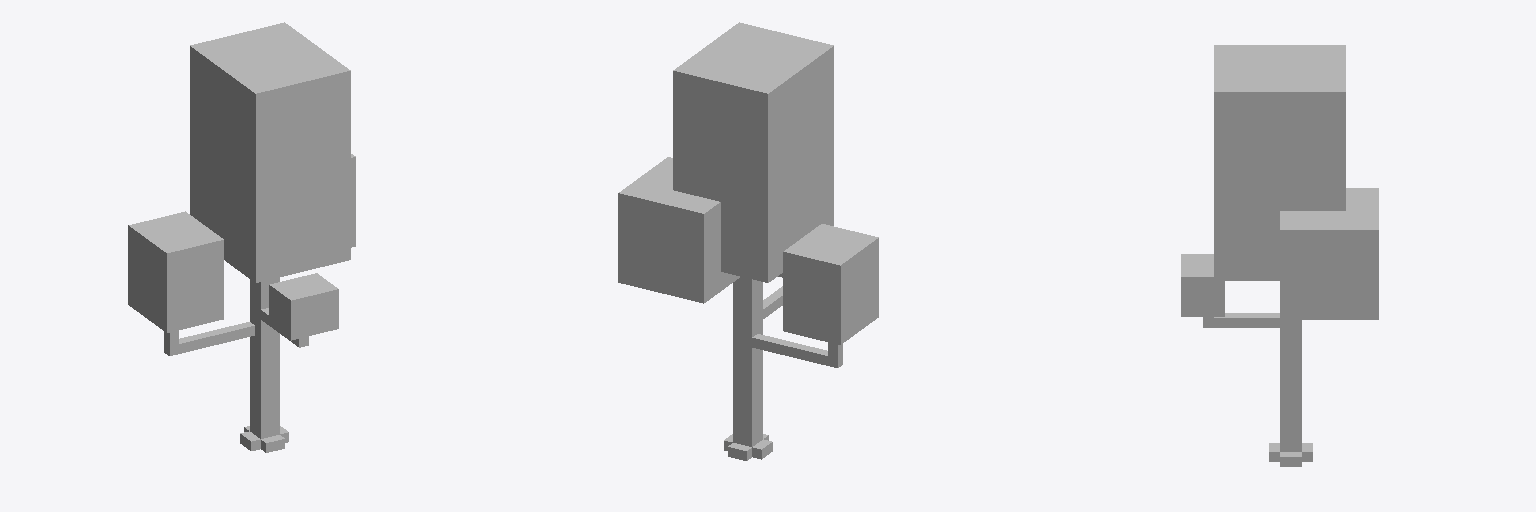
The model's file is tree.obj.
The picture shows the model from 3 angles: view 1: azimuth 30°, elevation 25°; view 2: azimuth 150°, elevation 25°; view 3: azimuth 270°, elevation 25°; orthographic projection.
Visible parts, largest first — view 1: object 1; view 2: object 1; view 3: object 1.
Part boxes in pixels (x1,y1,x2,y2): object 1: (128,22,355,452); object 1: (618,22,878,460); object 1: (1181,45,1378,466).
Size of the model in its own units: 2.1 by 3.9 by 1.8.